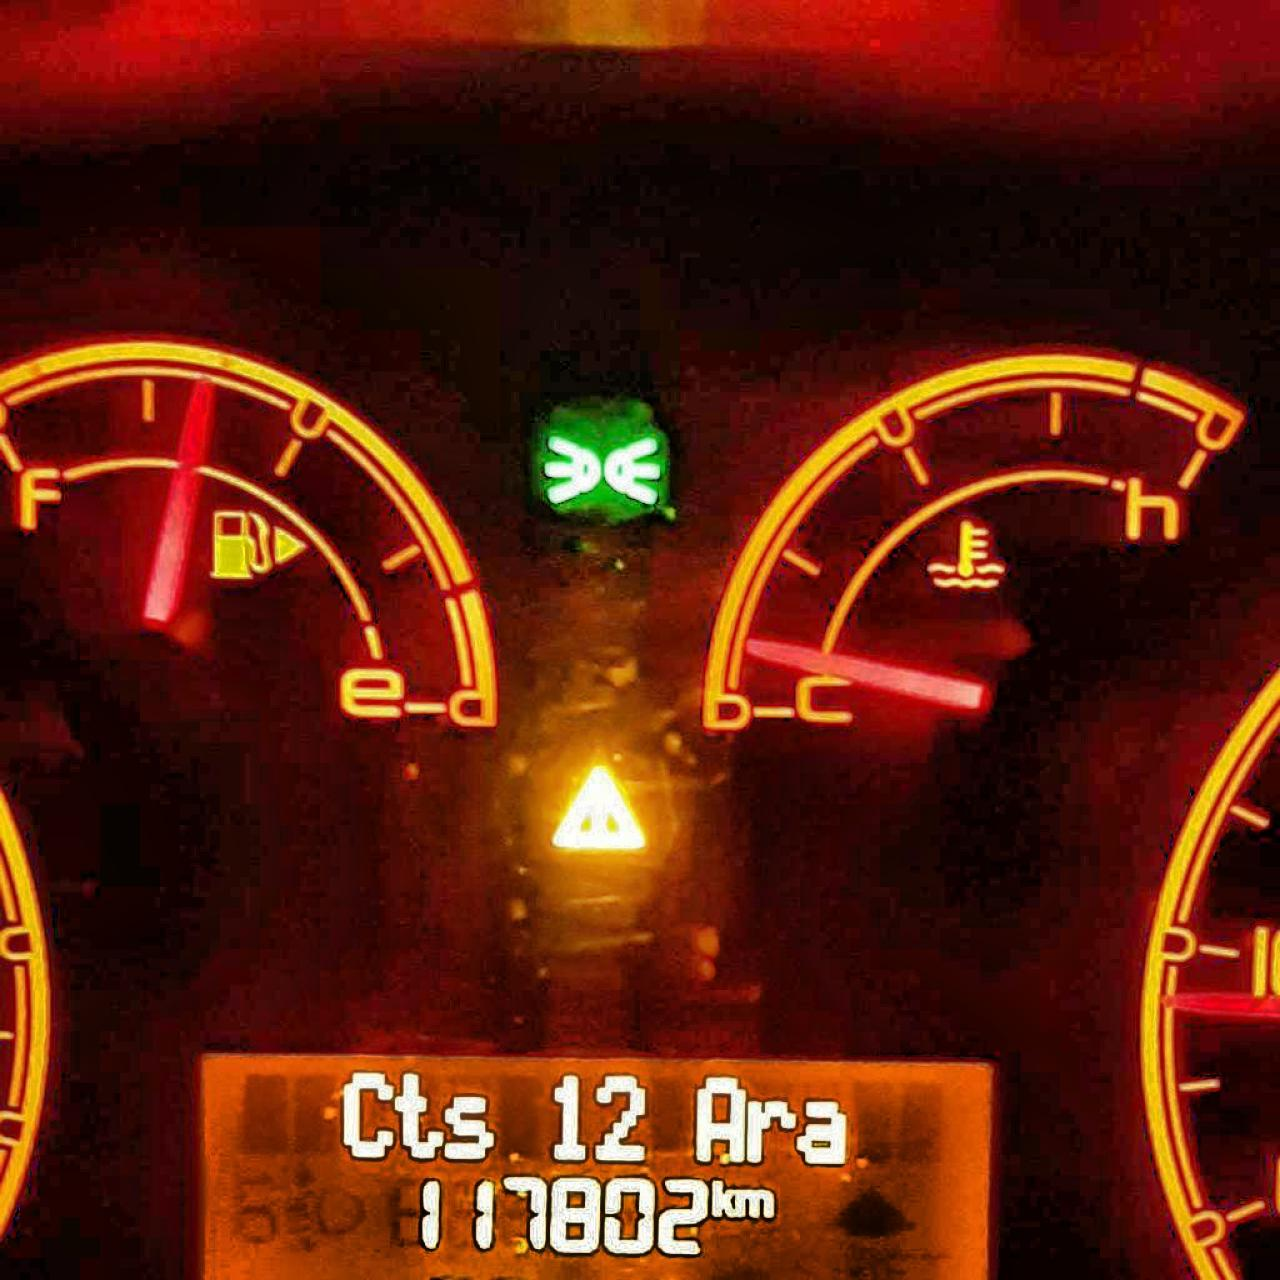0: (604, 1173, 655, 1257)
1: (549, 1069, 587, 1162), (417, 1169, 442, 1253), (471, 1170, 493, 1253)
2: (591, 1071, 648, 1164), (656, 1173, 709, 1257)
7: (499, 1171, 549, 1252)
8: (550, 1175, 601, 1255)
X: (340, 1065, 394, 1162), (394, 1069, 444, 1160), (695, 1074, 745, 1164), (795, 1096, 847, 1166), (445, 1088, 493, 1164), (747, 1096, 794, 1163), (736, 1185, 778, 1219), (710, 1176, 735, 1220)
odometer: (189, 1034, 1002, 1276)
